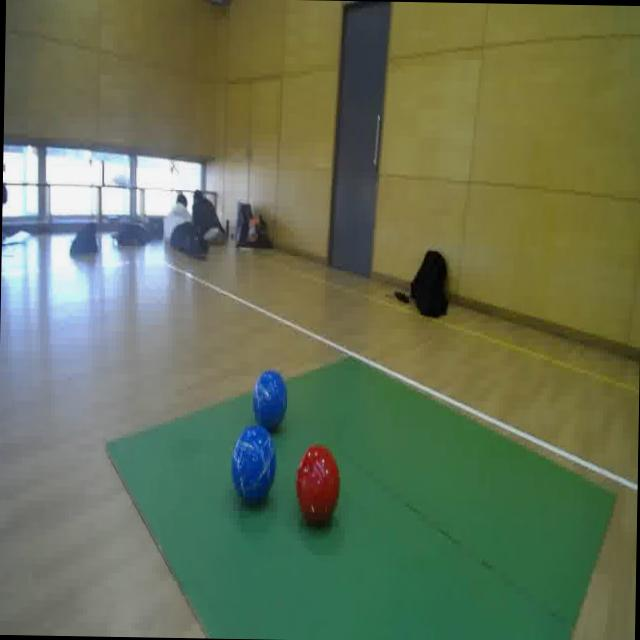blue_ball: (229, 422, 279, 504), (250, 368, 290, 431)
red_ball: (293, 436, 339, 530)
